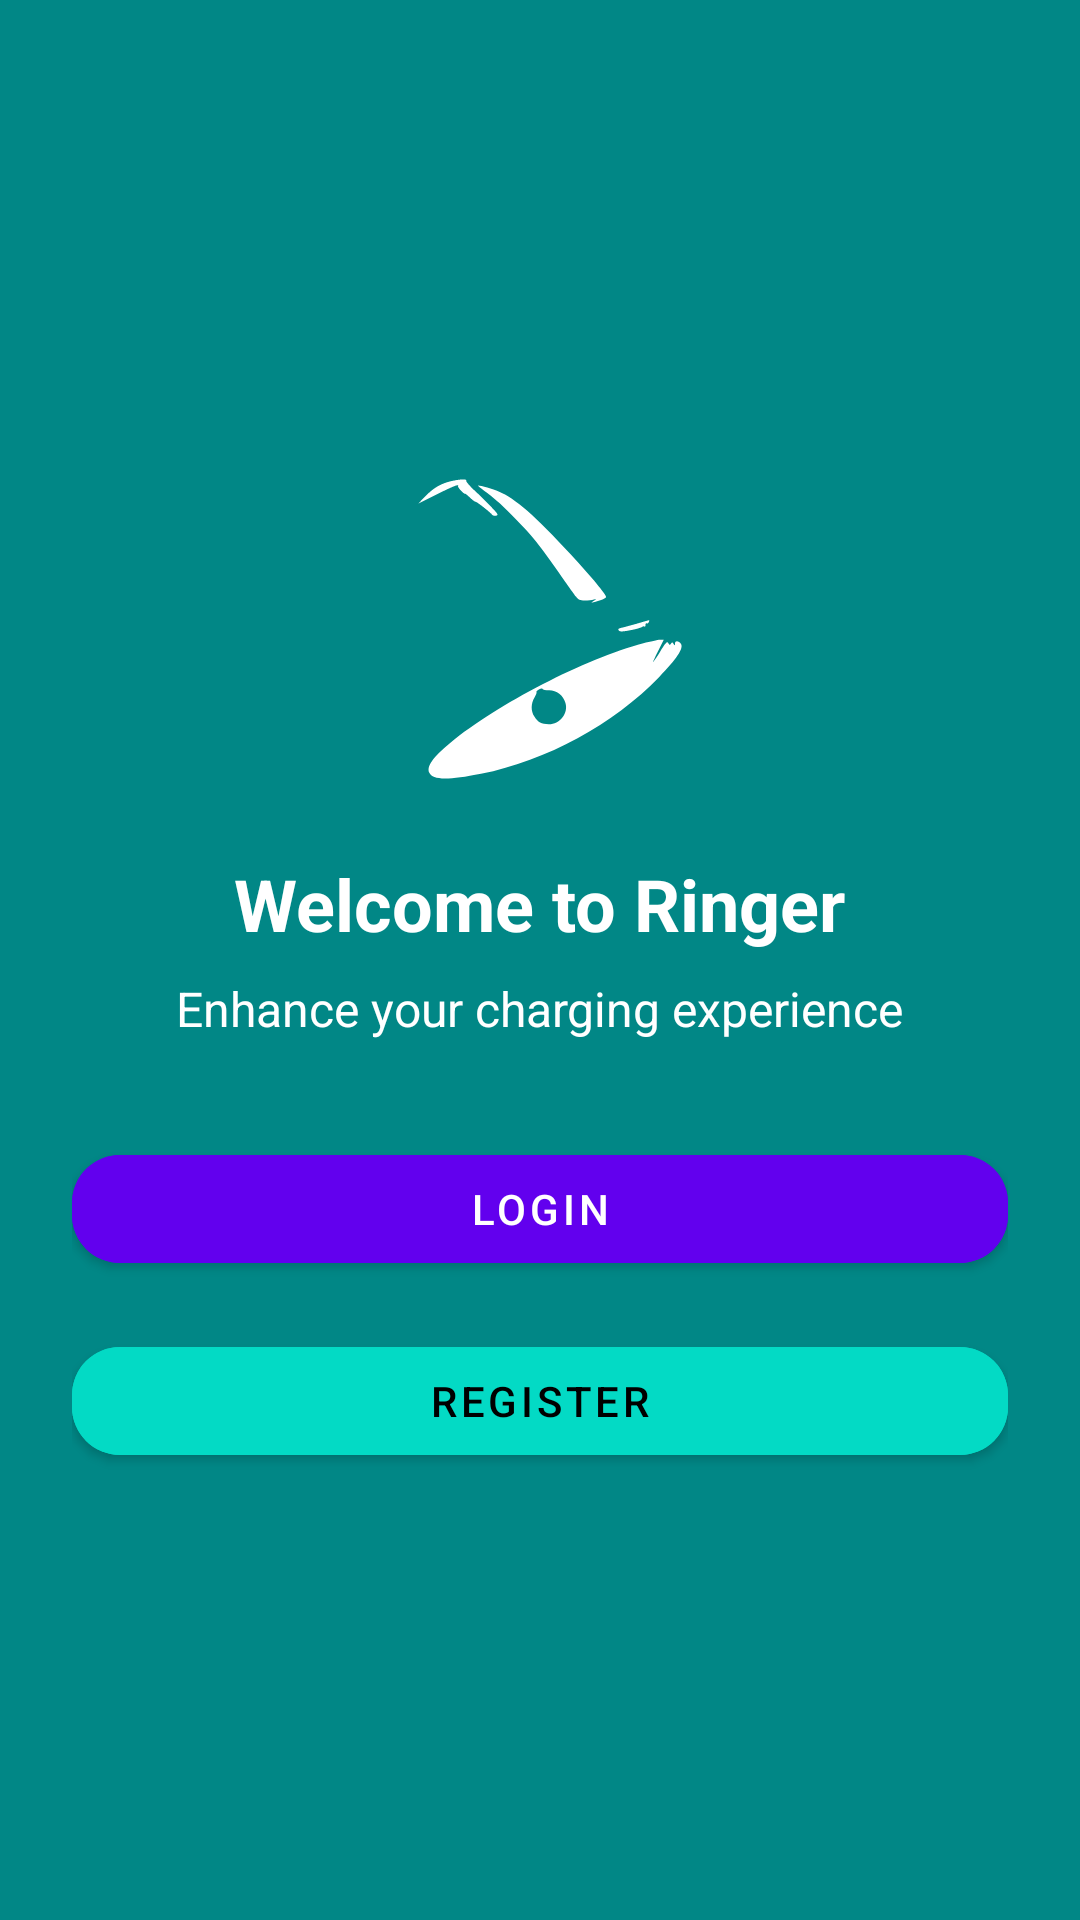

Where icons sit on this 1080px×1920px app screen, as detection(x1, y1, x2, y2):
bell: detection(418, 479, 682, 779)
